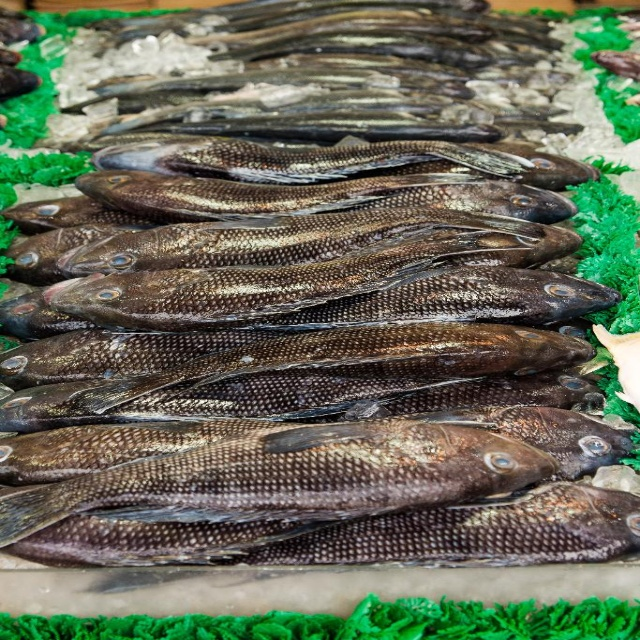Fish: (0, 0, 640, 569)
